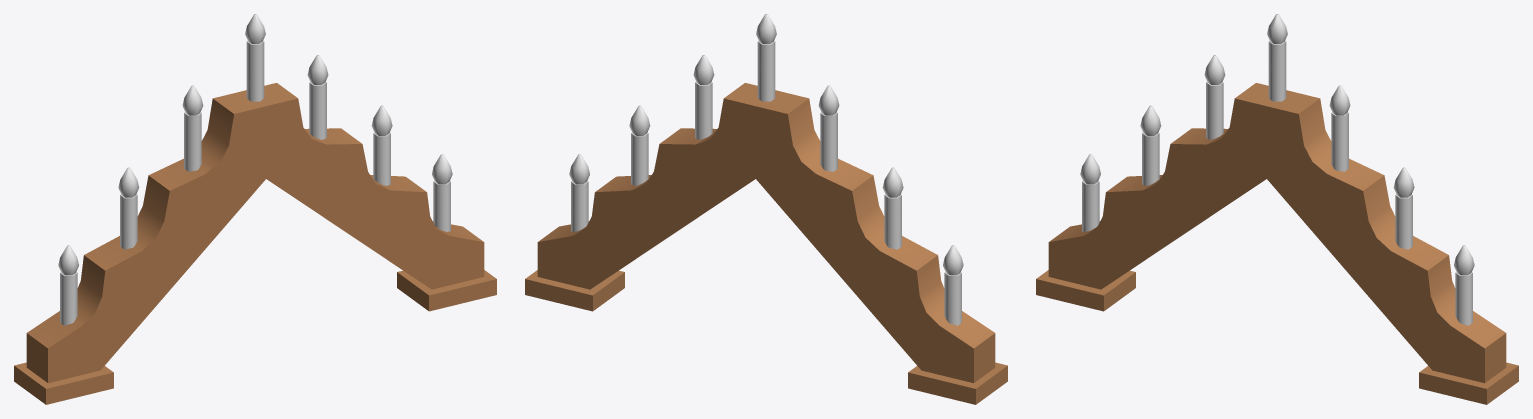
Rendered from CandleDecoration_01.fbx.
3 renders of one model, left to right at view 1: azimuth 30°, elevation 25°; view 2: azimuth 150°, elevation 25°; view 3: azimuth 330°, elevation 25°, orthographic.
Parts seen in each view (by area): view 1: CandleDecoration_01; view 2: CandleDecoration_01; view 3: CandleDecoration_01.
Part boxes in pixels (bbox=[...]): CandleDecoration_01: bbox=[14, 14, 496, 404]; CandleDecoration_01: bbox=[525, 14, 1007, 404]; CandleDecoration_01: bbox=[1036, 14, 1518, 404].
Size of the model in its own units: 0.4565 by 0.3132 by 0.0562.
